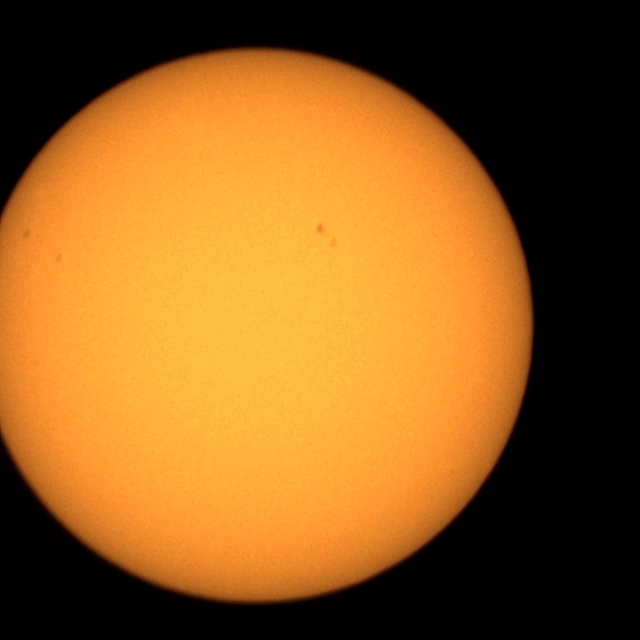sunspot: (315, 222, 338, 249), (314, 222, 329, 241)
